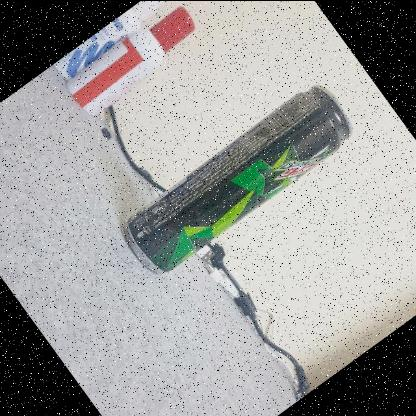Can: (122, 86, 350, 274)
